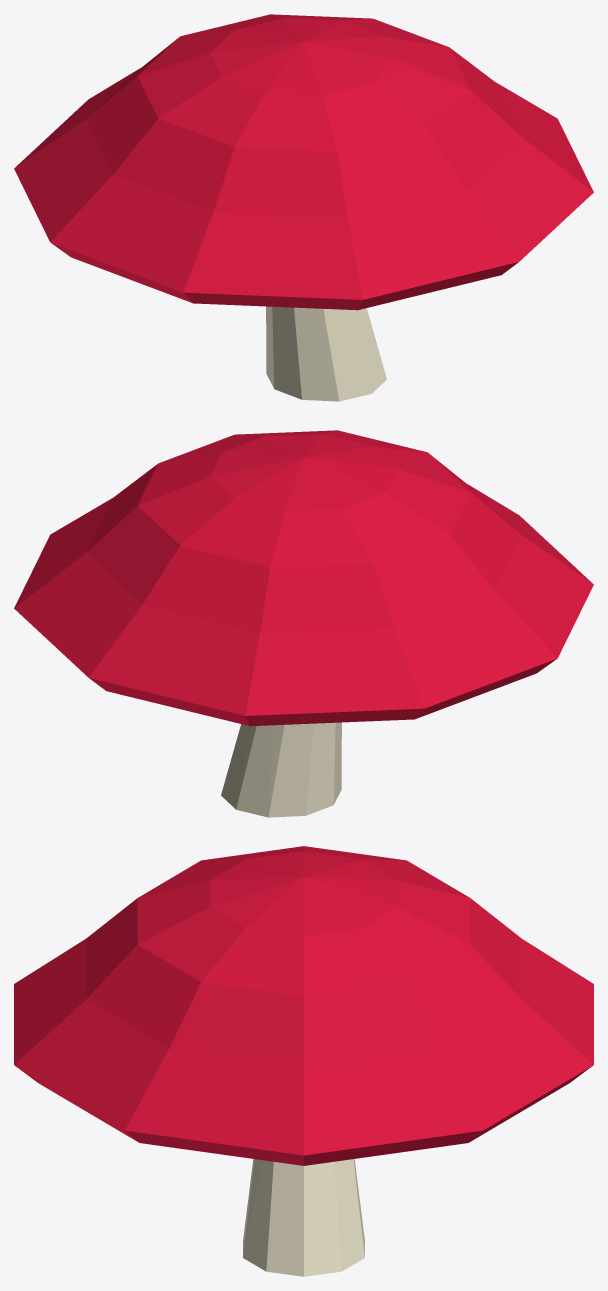
The model's file is Vegetation_Verdant_Mushroom_01.FBX.
3 views of the same model, one above another, from view 1: azimuth 30°, elevation 25°; view 2: azimuth 150°, elevation 25°; view 3: azimuth 270°, elevation 25° (orthographic). The views are drawn at different scales.
Visible parts, largest first — view 1: Vegetation_Verdant_Mushroom_01; view 2: Vegetation_Verdant_Mushroom_01; view 3: Vegetation_Verdant_Mushroom_01.
Boxes of the visible parts, x1,y1,x2,y2 form: Vegetation_Verdant_Mushroom_01: [14, 14, 593, 401]; Vegetation_Verdant_Mushroom_01: [14, 430, 593, 817]; Vegetation_Verdant_Mushroom_01: [14, 846, 593, 1276].
Bounding box in the file's own units: 766 × 492 × 716.
